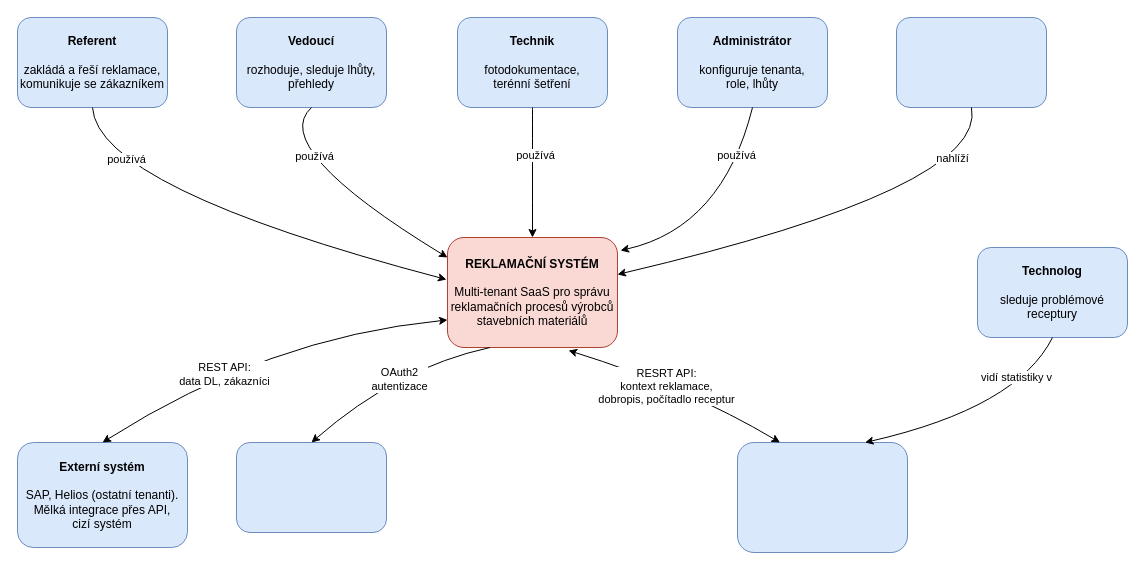
Some shapes in this 1145 by 570 pixel diagram are drawn without their labels. The shapes that lost their labels are listed below. From the top down, each one's centre as x and y in pixels, then its label:
point 971,62: Pouze čtení náhled bez úprav
point 311,487: ICOBIS IdP OpenIDDICT identity provider
point 822,497: ICOBIS doplnit
